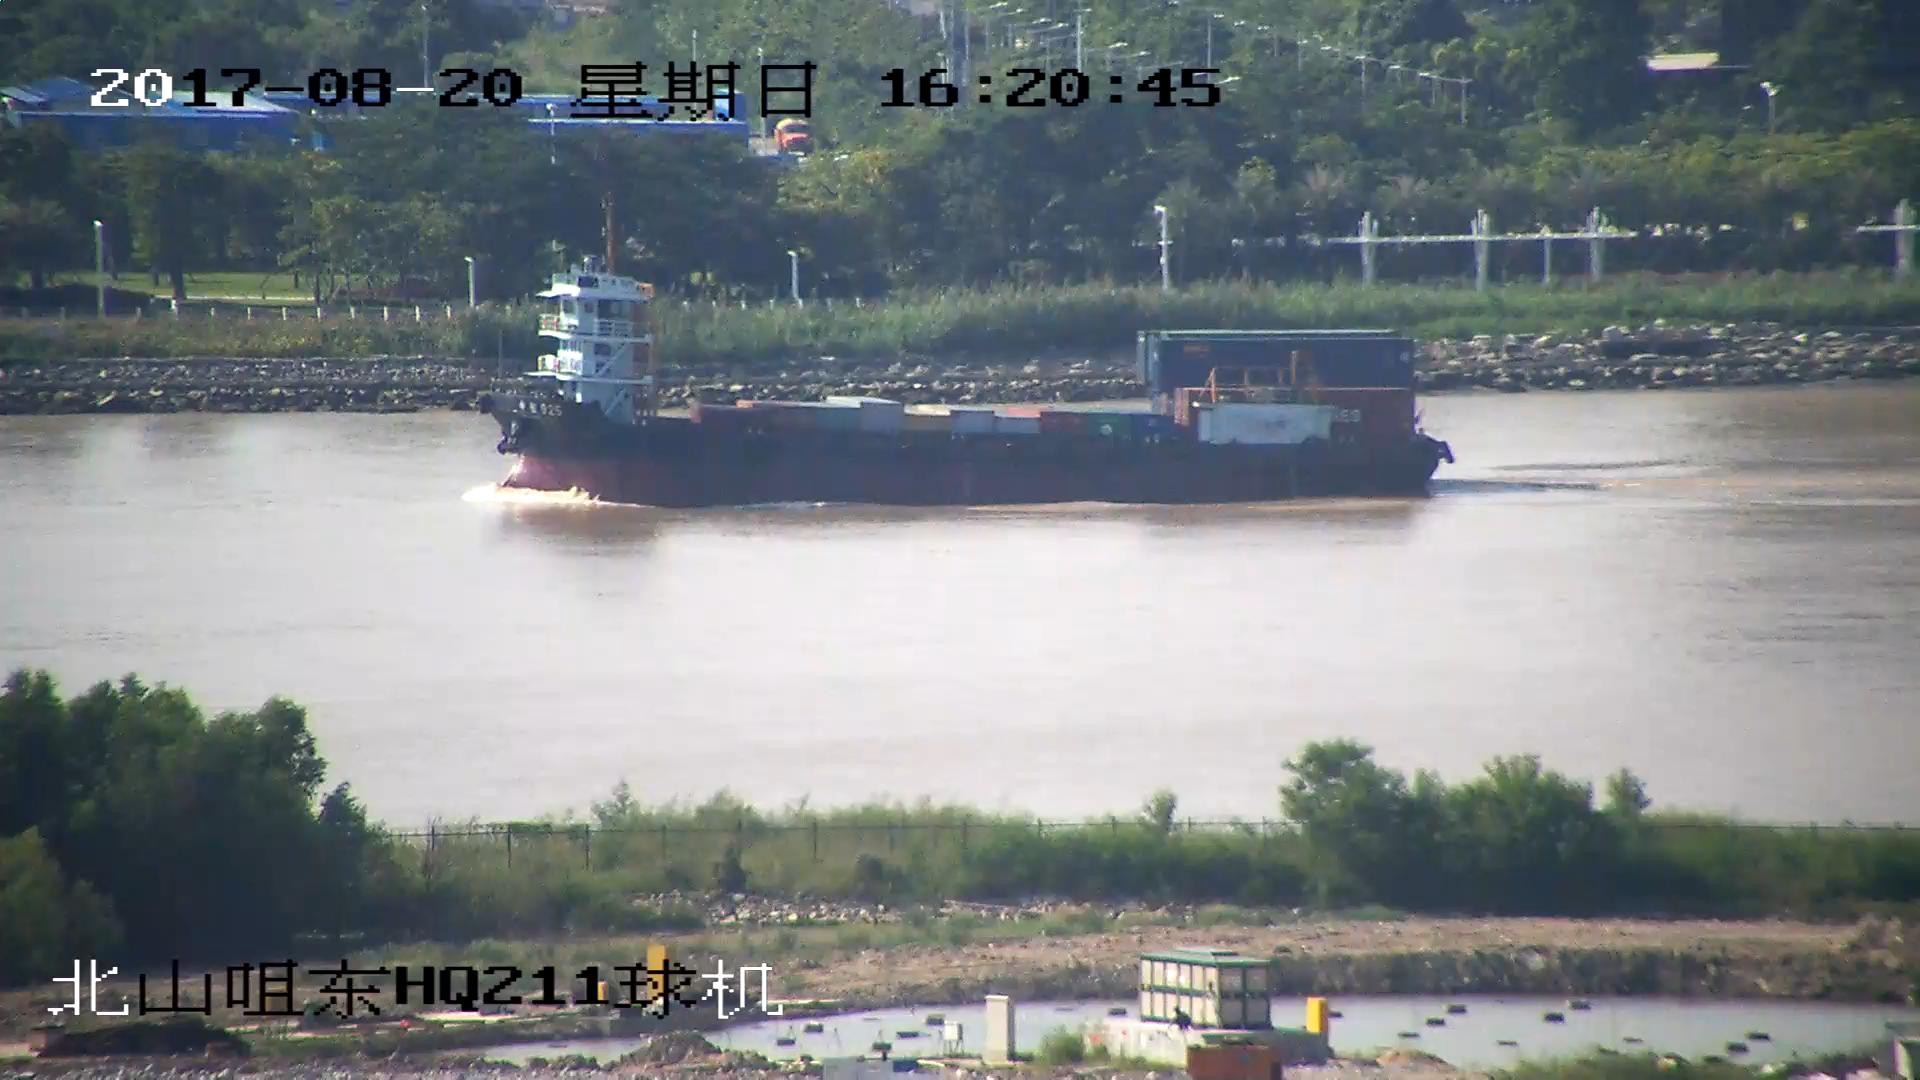container ship: (474, 199, 1459, 509)
